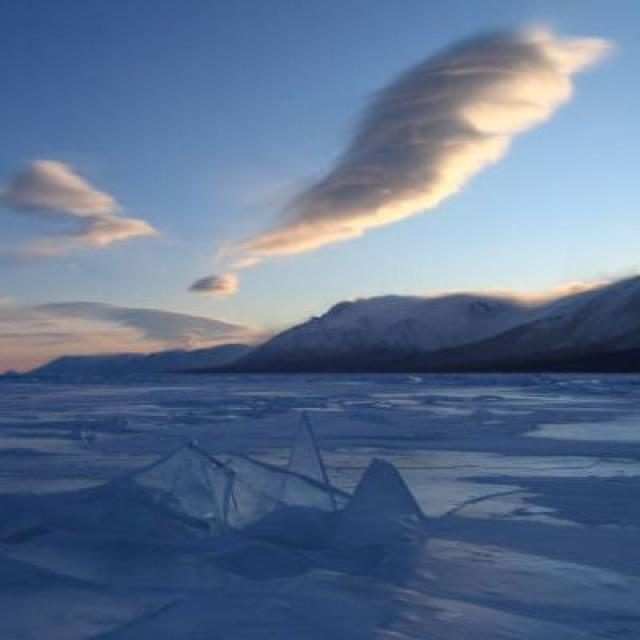St: (221, 17, 628, 271)
